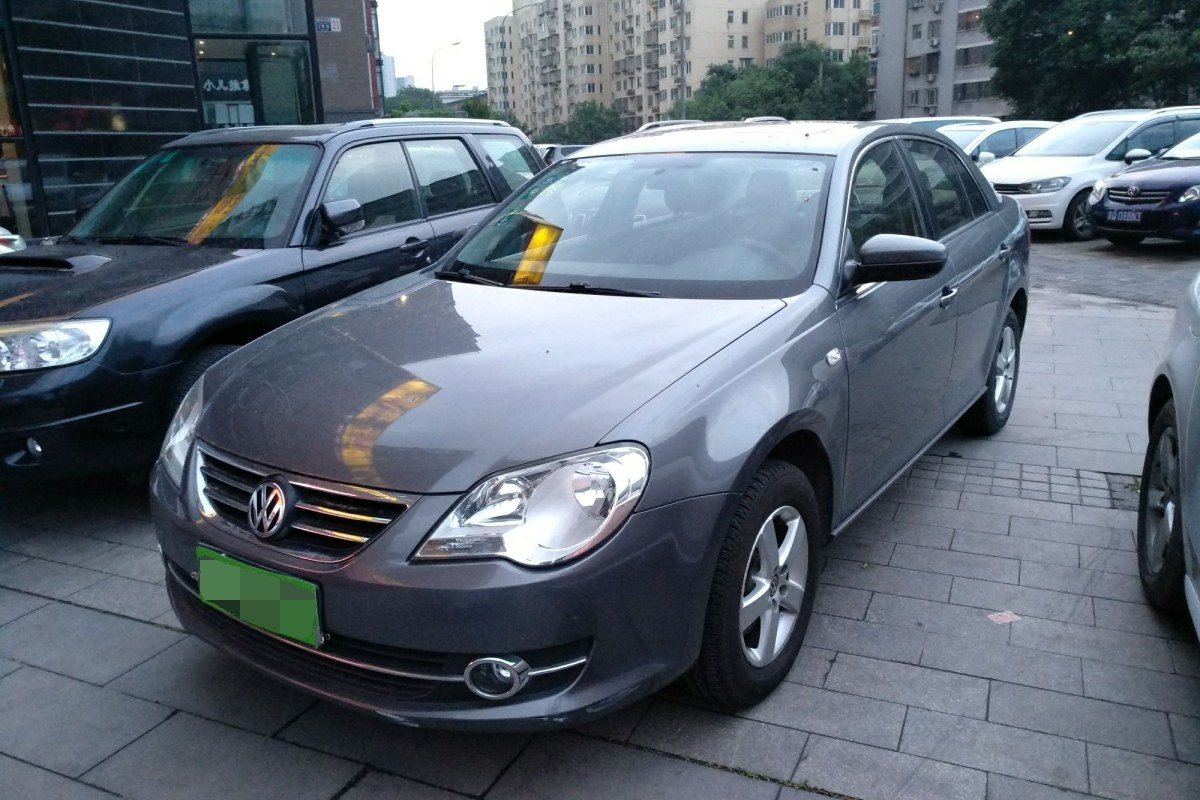family sedan: (173, 110, 1014, 702), (18, 111, 407, 499), (970, 86, 1182, 230)
